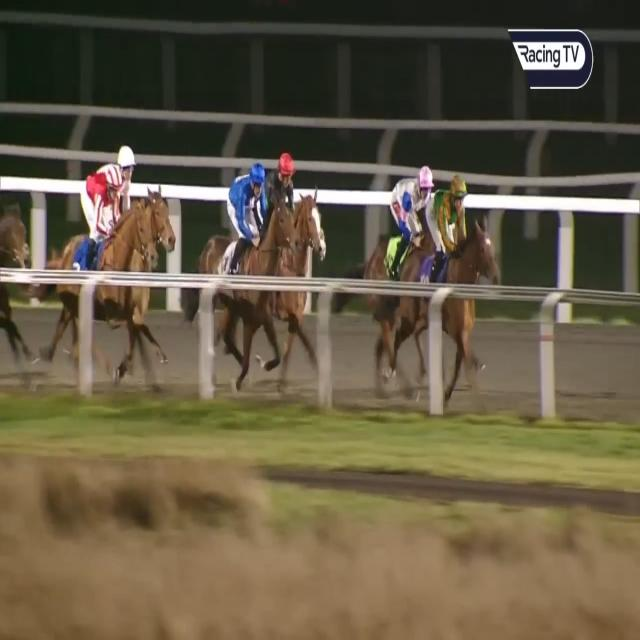horses-racing: (374, 180, 501, 378), (210, 168, 306, 376), (64, 163, 156, 367), (370, 162, 436, 312), (108, 138, 178, 258), (259, 152, 326, 264), (0, 198, 31, 336)
